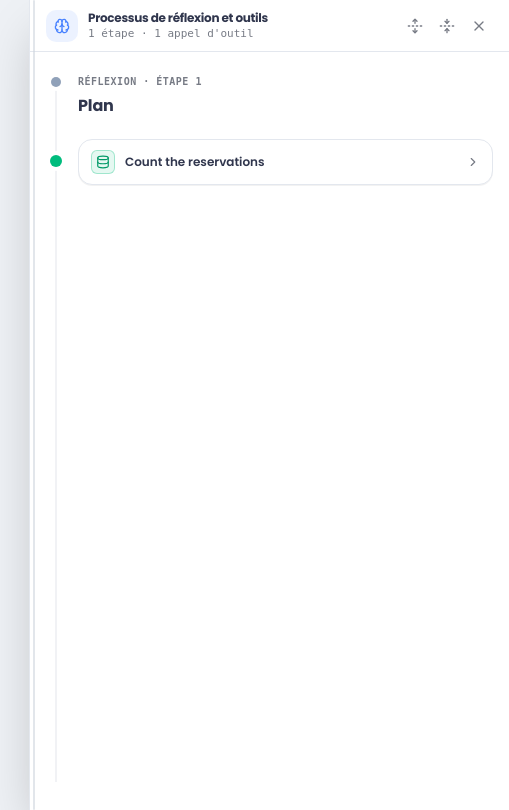
AgentLoopPanel › expands tool card result details on header click showing columns
Click the button "Count the reservations".
click(195, 162)  # box [79,140,492,184]
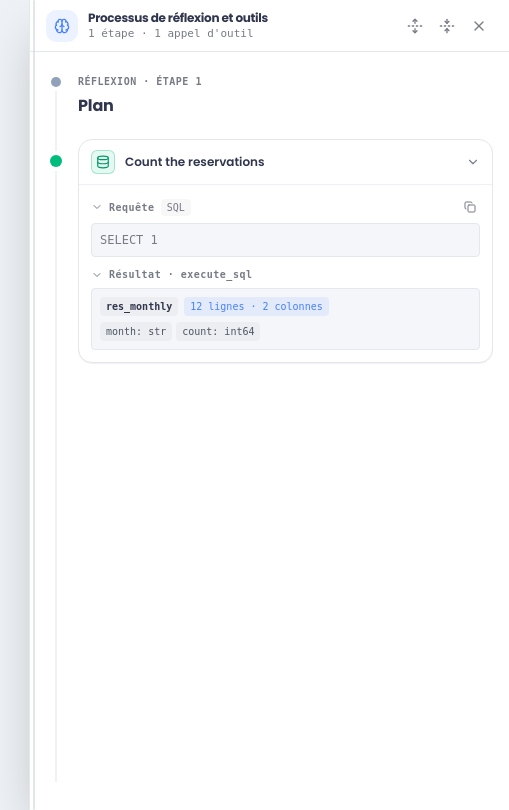
Expected: the text "month: str" is shown, [100,322,172,341]
Expected: the text "count: int64" is shown, [176,322,260,341]
